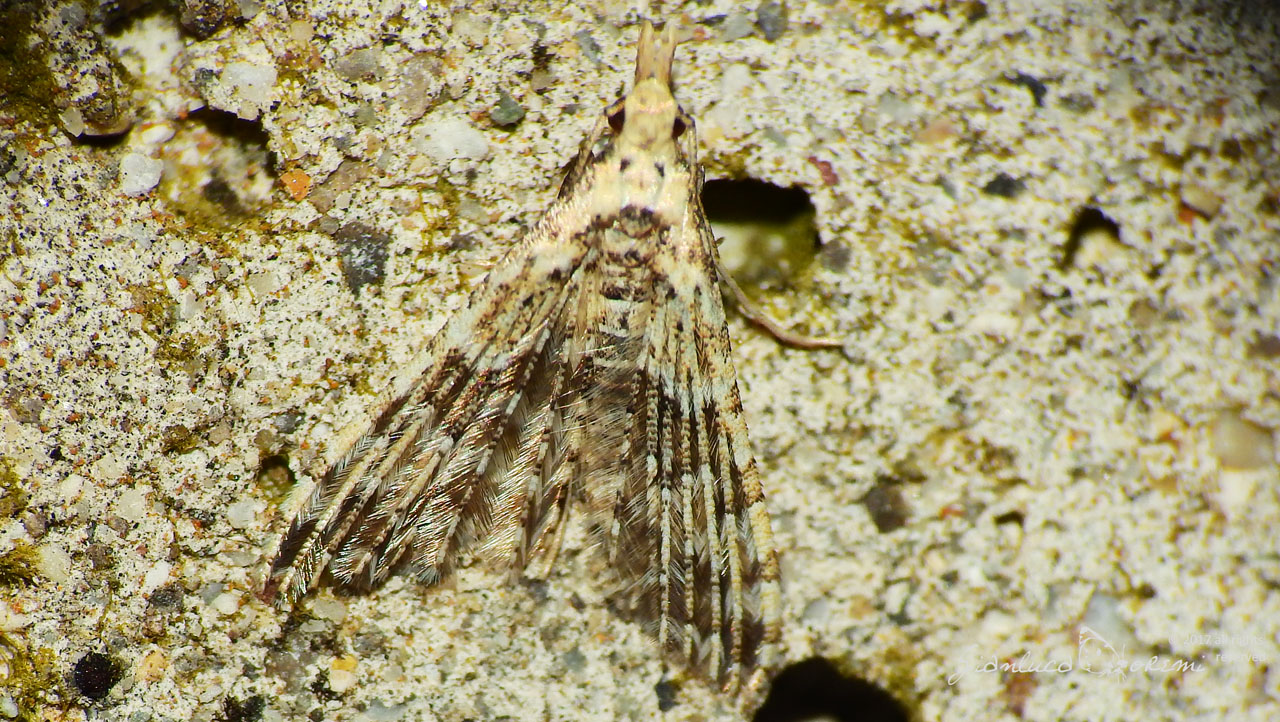Alucitidae: (219, 10, 858, 700)
moth: (217, 8, 856, 698)
